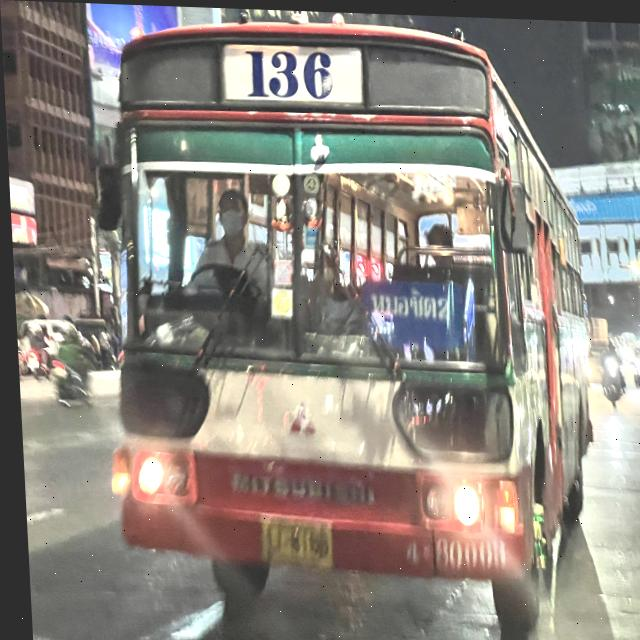BMTA-bus: (96, 21, 588, 640)
Bus Line Number: (219, 43, 370, 109)
Bus Side Number: (394, 528, 504, 569)
Destination Sign: (355, 276, 470, 353)
